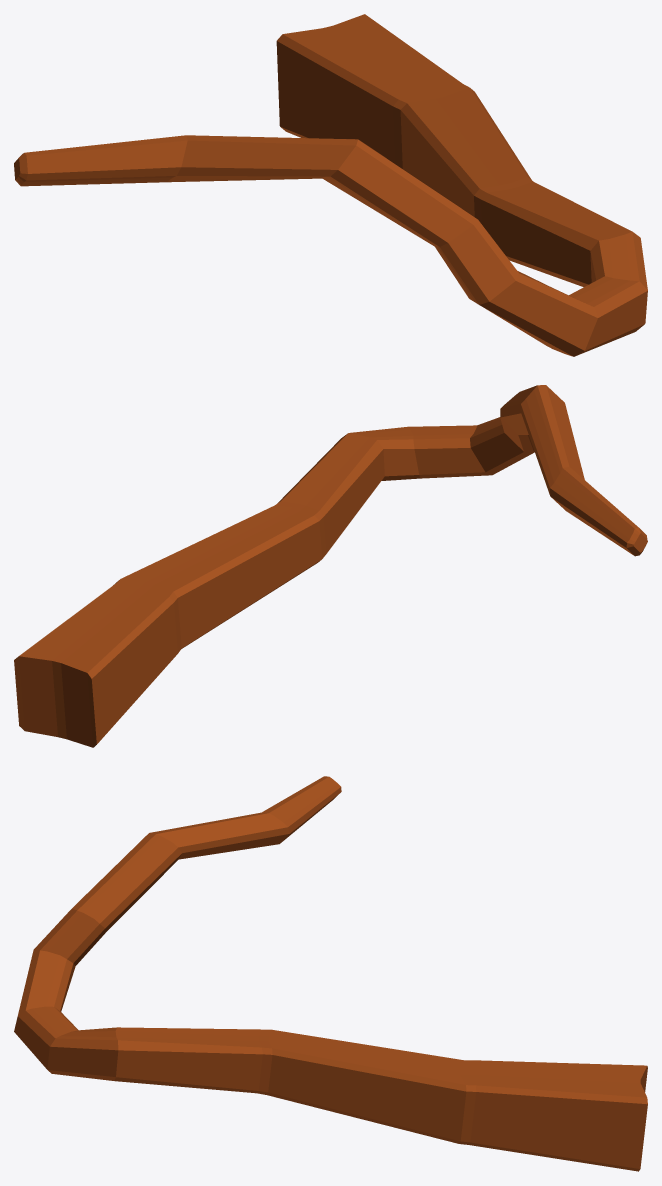
The model's file is agac_dal5.fbx.
The picture shows the model from 3 angles, top to bottom: view 1: azimuth 30°, elevation 25°; view 2: azimuth 150°, elevation 25°; view 3: azimuth 270°, elevation 25°; orthographic projection. The views are drawn at different scales.
Parts seen in each view (by area): view 1: Cylinder.007; view 2: Cylinder.007; view 3: Cylinder.007.
Part boxes in pixels (x1,y1,x2,y2): Cylinder.007: (14, 14, 647, 356); Cylinder.007: (14, 385, 647, 747); Cylinder.007: (14, 776, 647, 1171).
Bounding box in the file's own units: 6.92 × 3.23 × 8.56.
